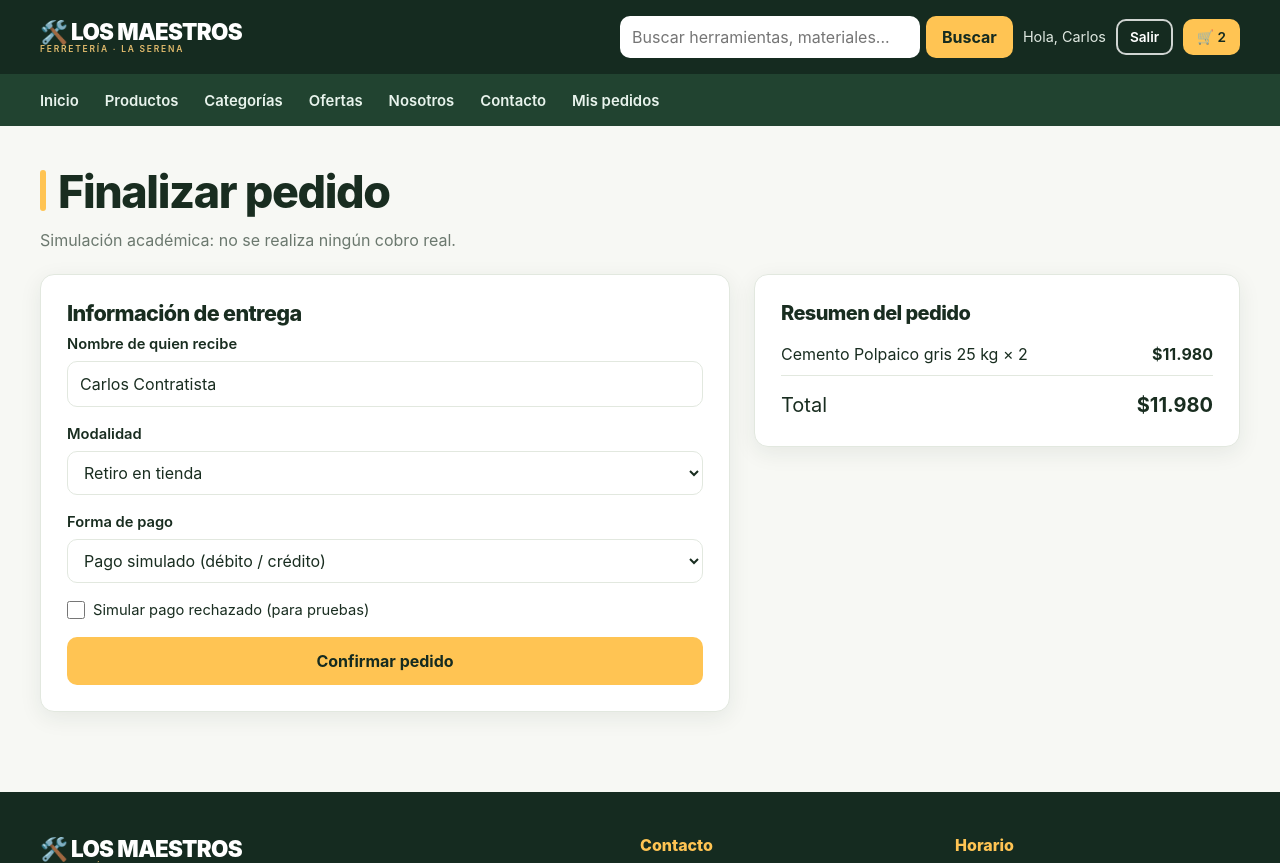
Tienda › P22 checkout: valida la dirección de despacho y al confirmar registra el pedido y descuenta stock
Select "Despacho a domicilio" in the dropdown labelled "Modalidad": [385, 473] box [67, 451, 703, 495]
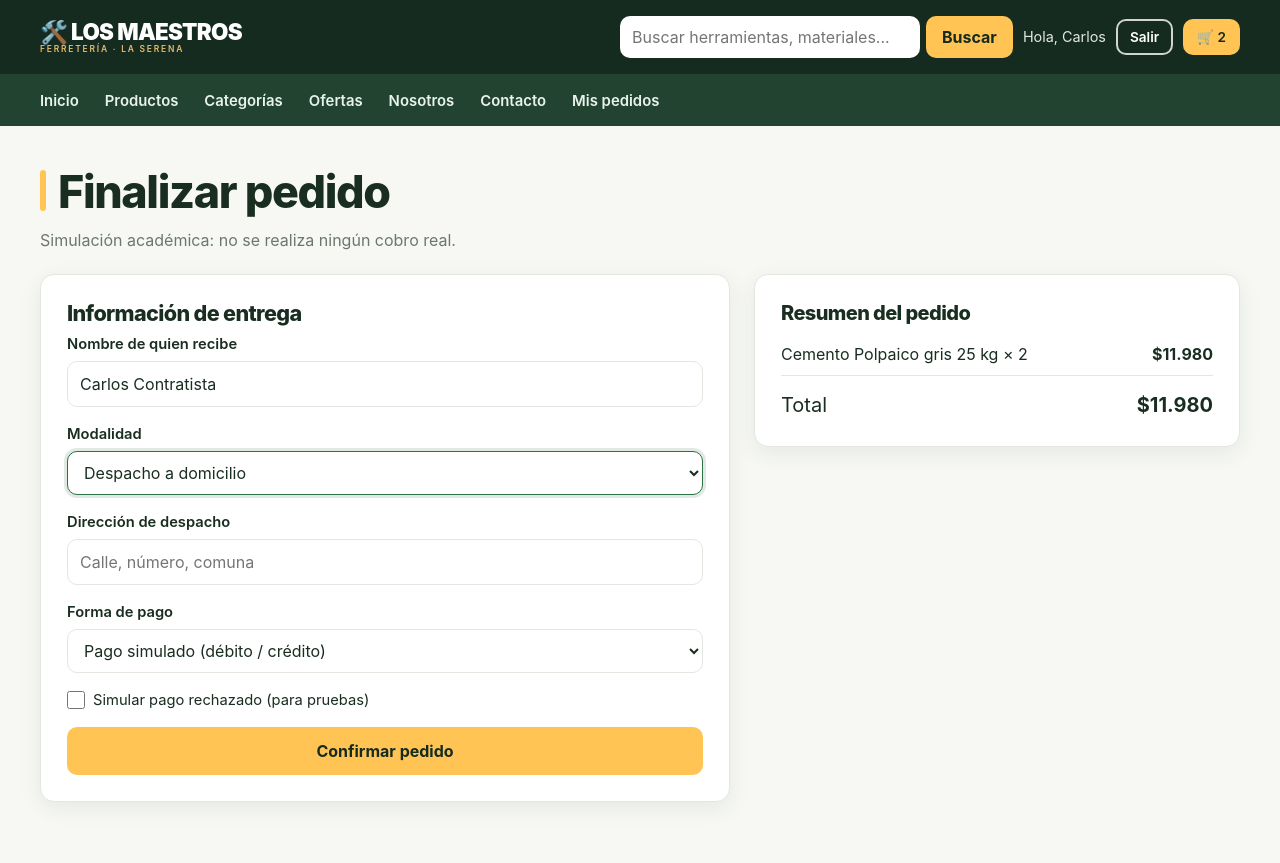
Click the button "Confirmar pedido": [385, 751] box [67, 727, 703, 775]
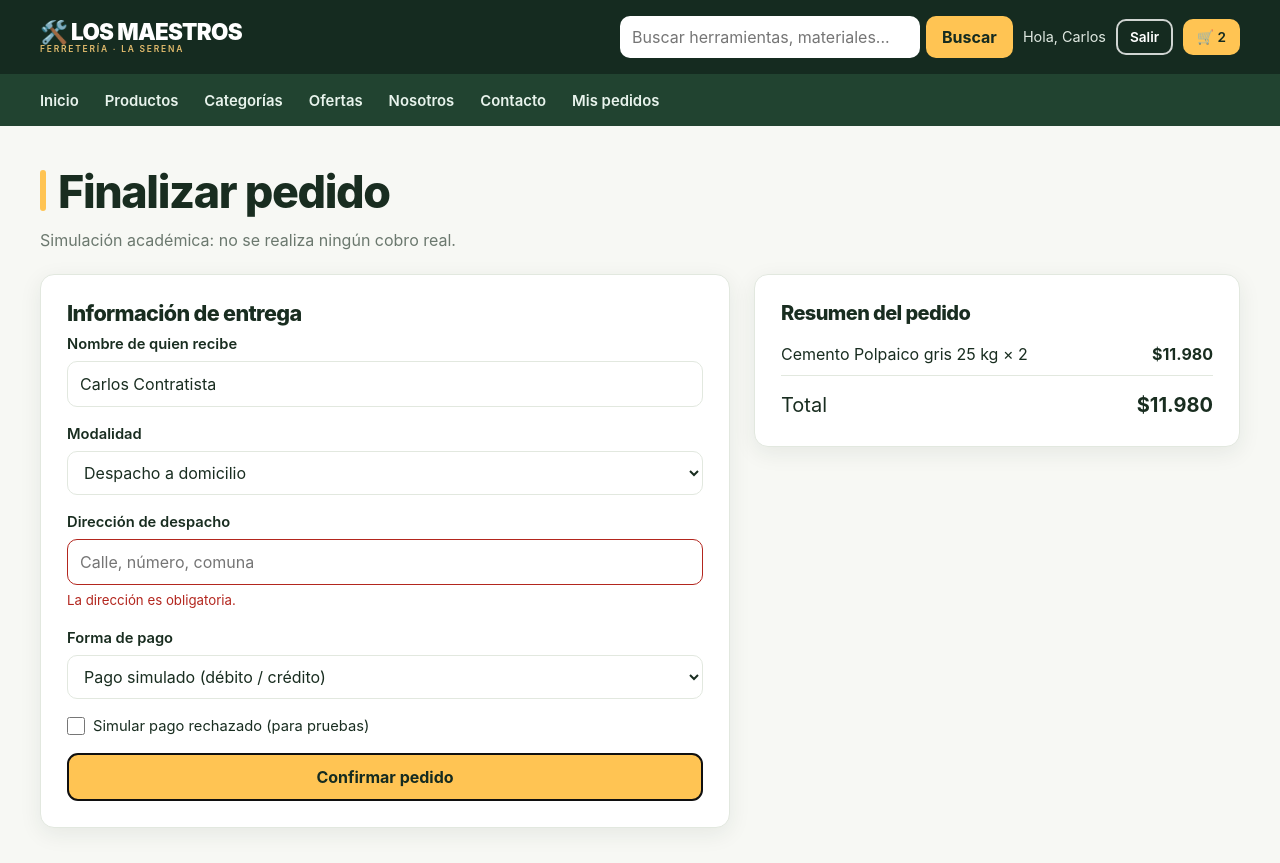
Result: the text "La dirección es obligatoria." is shown at [67, 592, 236, 608]
In the field labelled "Dirección de despacho": [385, 562] box [67, 539, 703, 585], type "Av. del Mar 1000, La Serena"
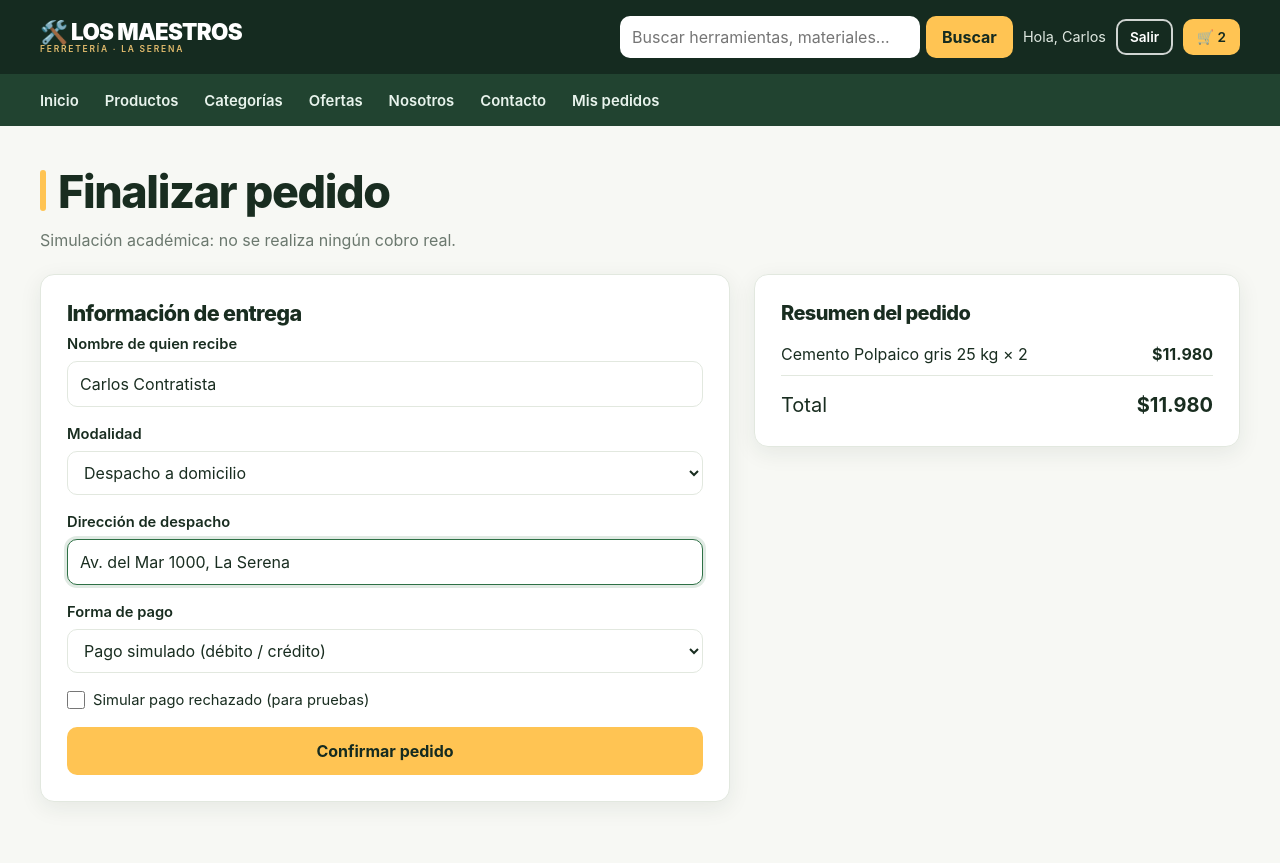
Click the button "Confirmar pedido": [385, 751] box [67, 727, 703, 775]
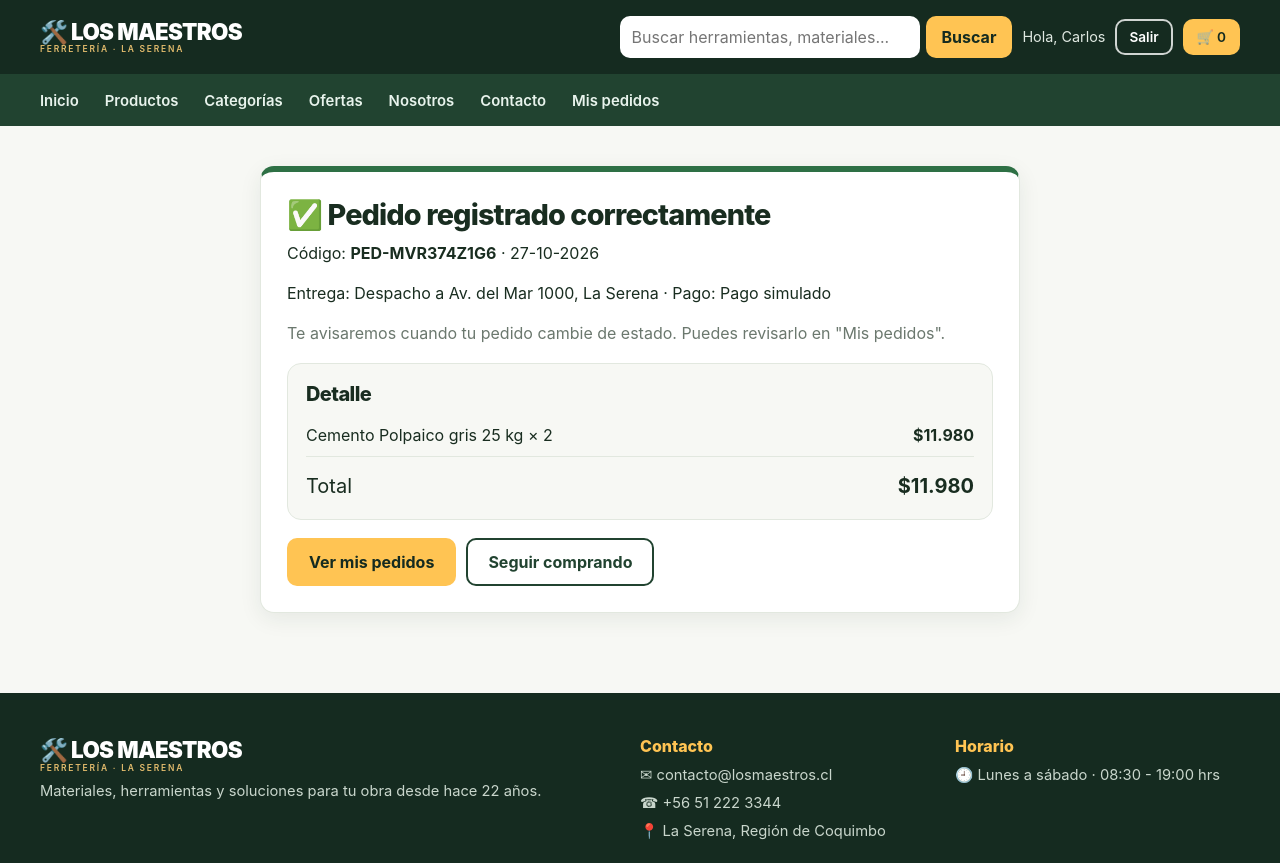
Result: the heading "✅ Pedido registrado correctamente" is shown at [287, 197, 770, 232]
Result: the link named "Carrito, 0 unidades" is shown at [1183, 19, 1240, 55]
